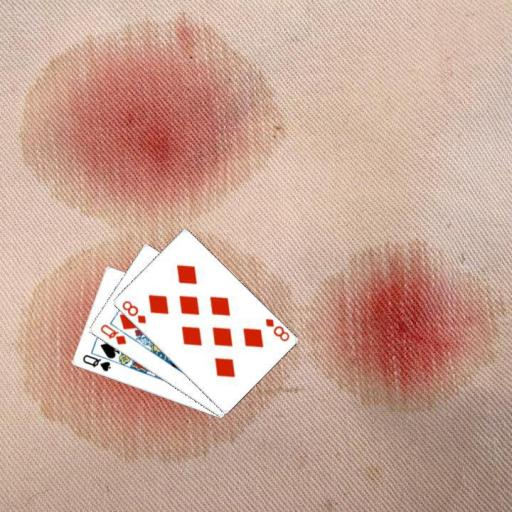8D: (118, 297, 147, 325), (262, 315, 291, 343)
QD: (97, 321, 128, 346)
QS: (79, 352, 112, 374)
